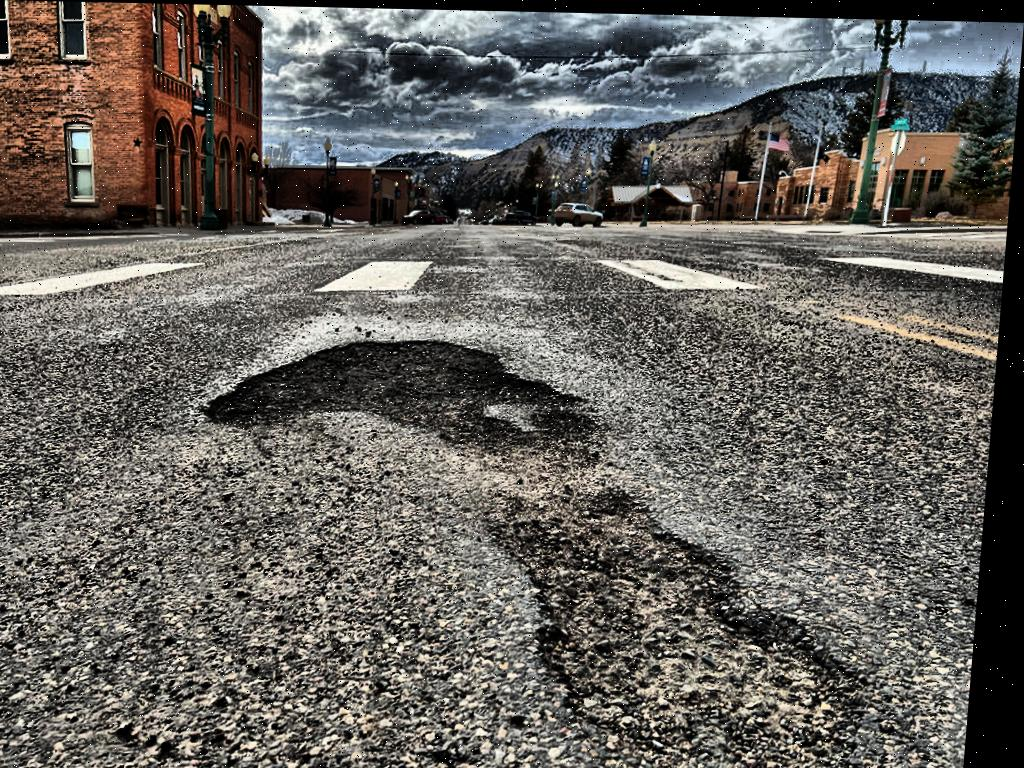pothole: (503, 503, 886, 757), (186, 322, 625, 472)
